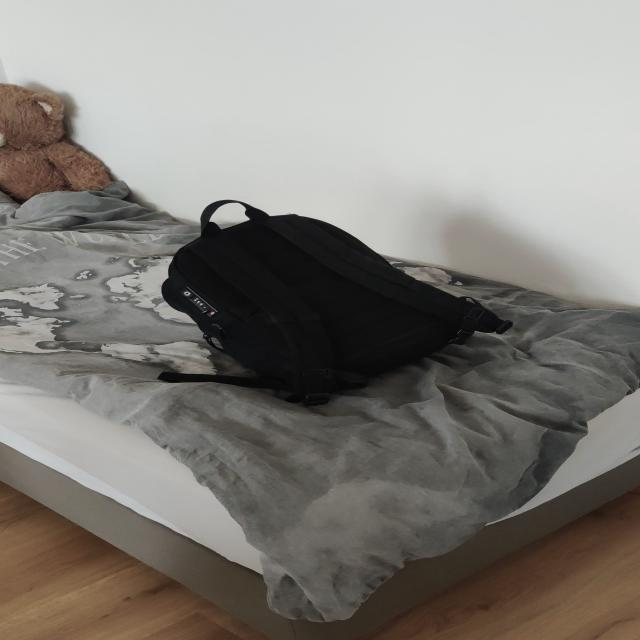backpack: (143, 202, 502, 402)
